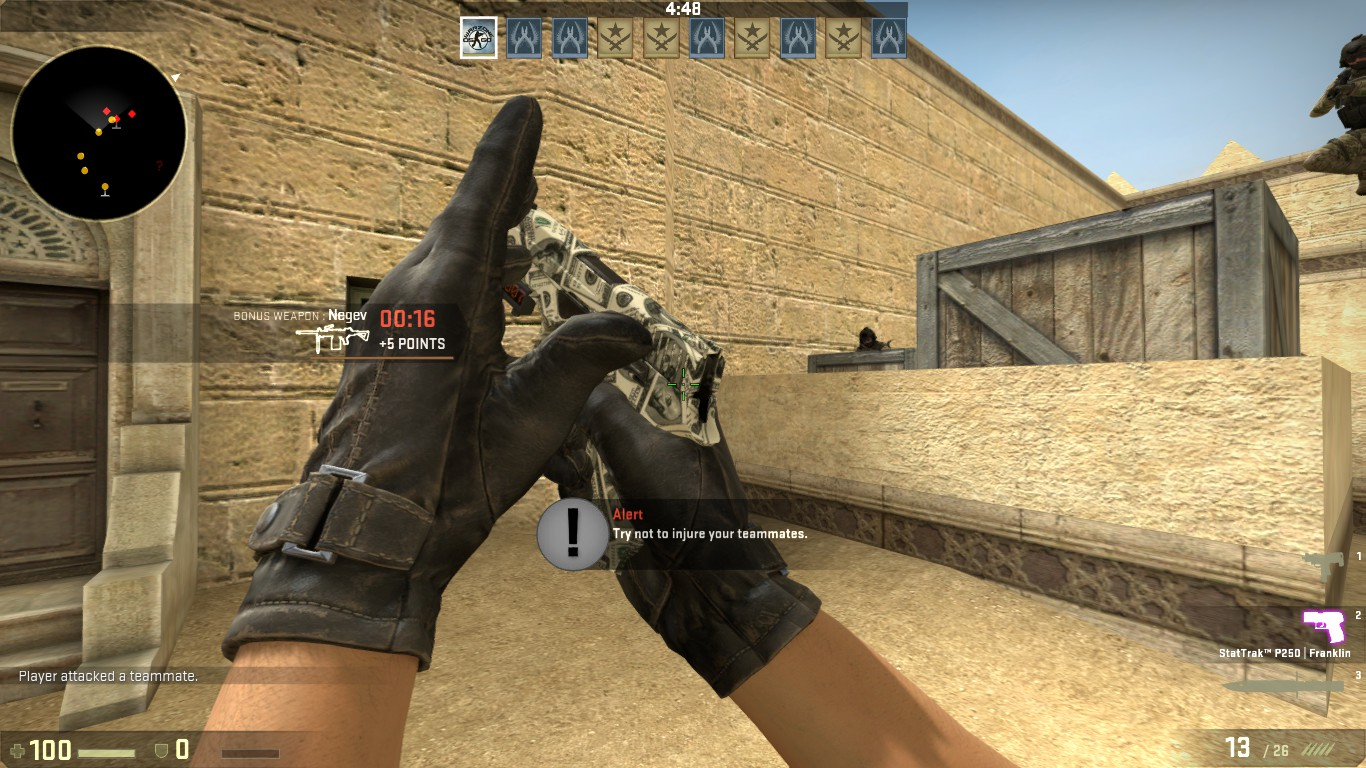c: (1302, 35, 1366, 205)
ch: (1333, 35, 1366, 79), (848, 322, 887, 355)
